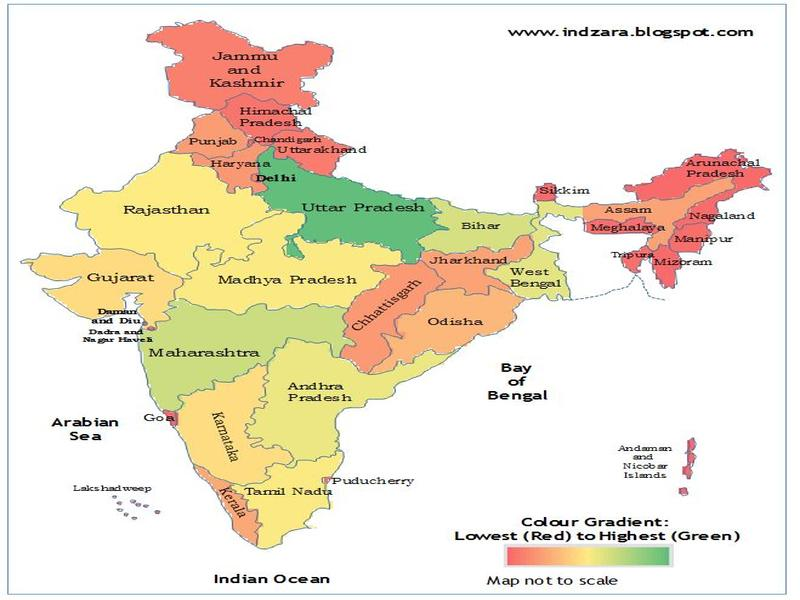legend: (451, 511, 744, 571)
